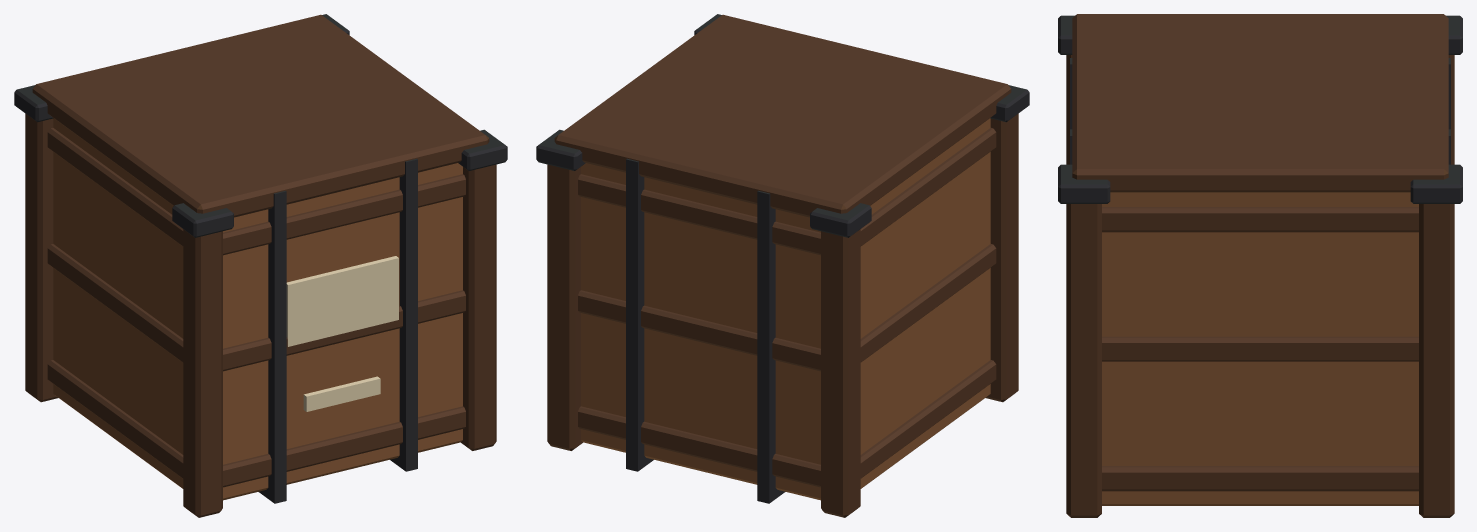
Rendered from prop_cargo_crate_large_a.glb.
3 views of the same model, side by side, from view 1: azimuth 30°, elevation 25°; view 2: azimuth 150°, elevation 25°; view 3: azimuth 270°, elevation 25° (orthographic). The views are drawn at different scales.
Parts seen in each view (by area): view 1: crate_lid, crate_body, crate_corner_plate_0, crate_stencil; view 2: crate_lid, crate_body, crate_corner_plate_0; view 3: crate_lid, crate_body, crate_corner_plate_0.
Boxes of the visible parts, x1,y1,x2,y2 form: crate_lid: (25, 14, 496, 517); crate_body: (53, 118, 462, 500); crate_corner_plate_0: (14, 14, 507, 503); crate_stencil: (286, 256, 398, 411); crate_lid: (547, 14, 1018, 517); crate_body: (581, 118, 990, 500); crate_corner_plate_0: (536, 14, 1029, 503); crate_lid: (1066, 14, 1454, 517); crate_body: (1102, 192, 1418, 505); crate_corner_plate_0: (1058, 15, 1462, 203).
Size of the model in its own units: 0.85 by 0.8125 by 0.85.
